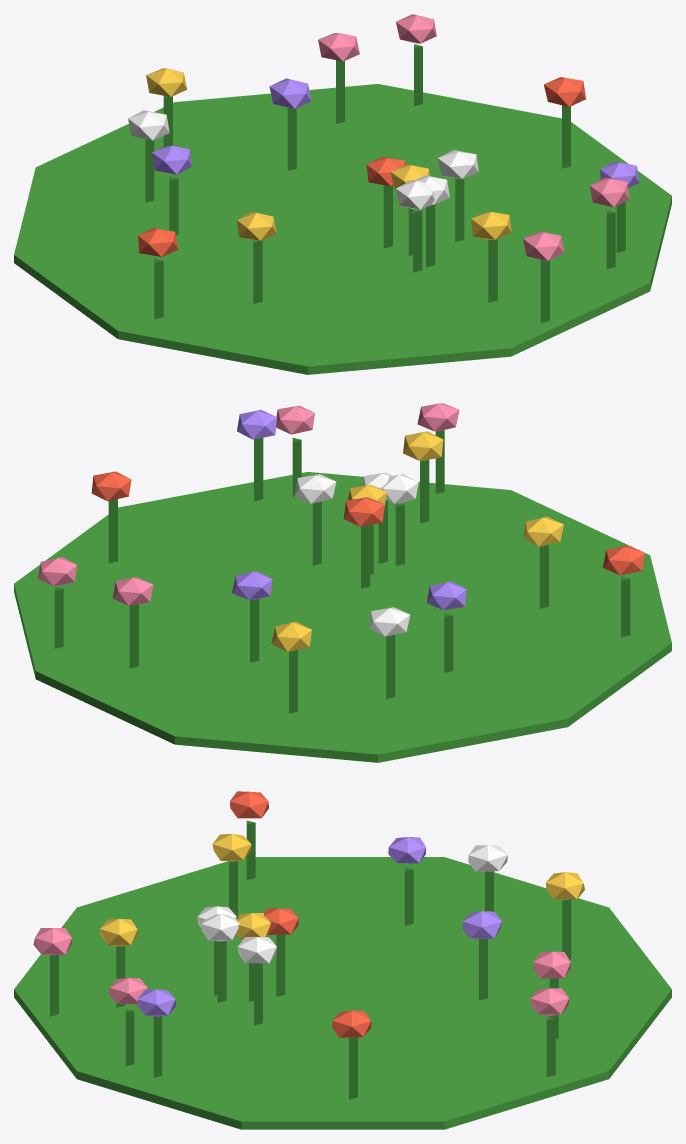
The model's file is flower_patch.glb.
The picture shows the model from 3 angles, top to bottom: view 1: azimuth 30°, elevation 25°; view 2: azimuth 150°, elevation 25°; view 3: azimuth 270°, elevation 25°; orthographic projection. The views are drawn at different scales.
Parts seen in each view (by area): view 1: flower_patch; view 2: flower_patch; view 3: flower_patch.
Part boxes in pixels (x1,y1,x2,y2): flower_patch: [14, 14, 671, 374]; flower_patch: [14, 403, 671, 762]; flower_patch: [14, 791, 671, 1129].
Bounding box in the file's own units: 4.18 × 0.7035 × 4.4.
